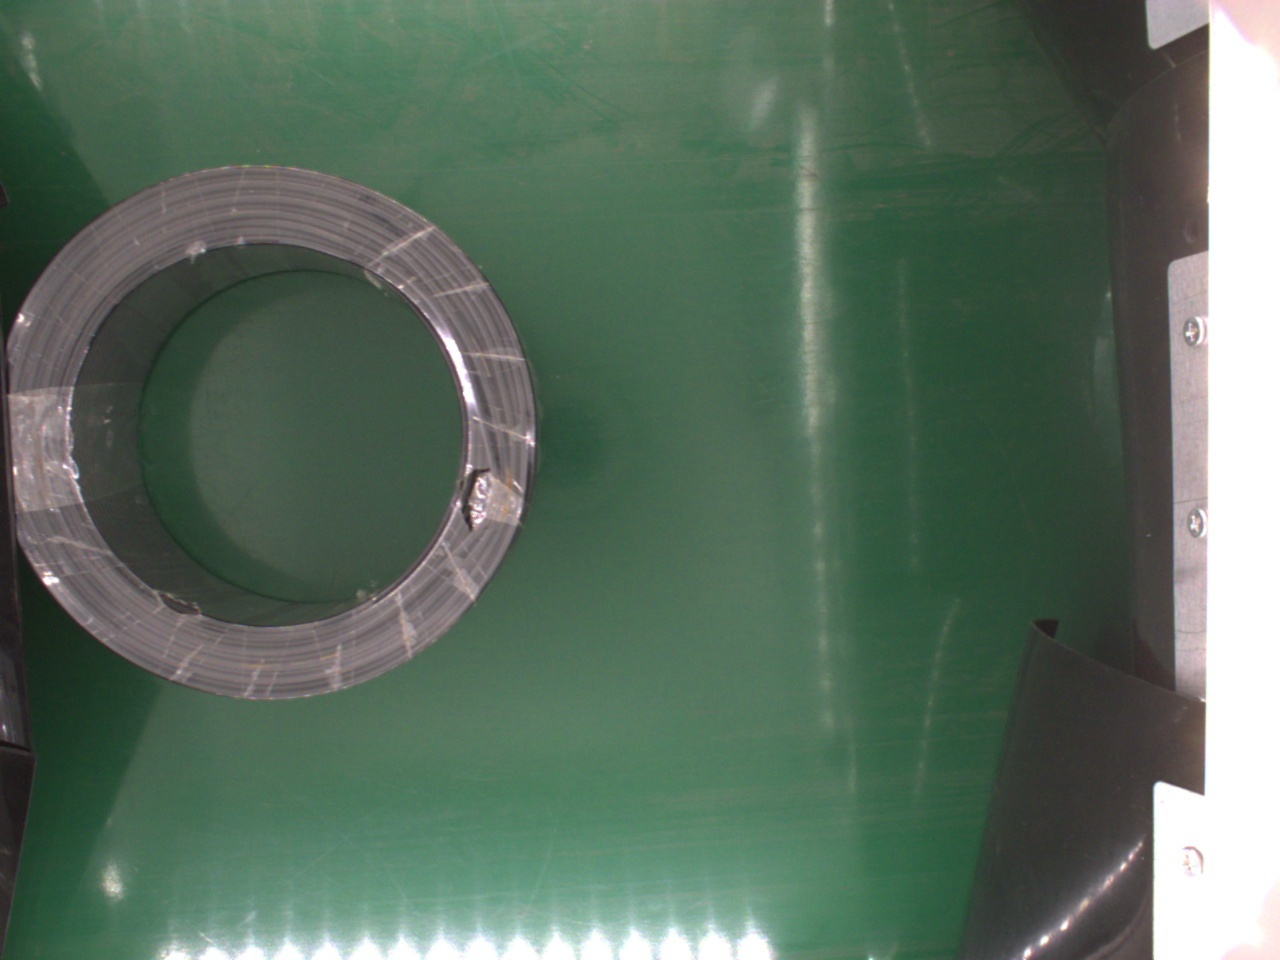black: (6, 169, 537, 704)
